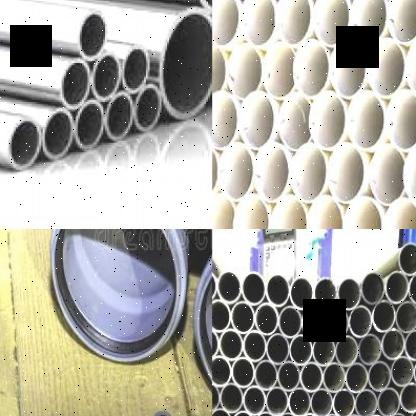pipe: (49, 229, 186, 363), (158, 6, 212, 123), (366, 38, 406, 98), (327, 143, 365, 204), (329, 38, 366, 100), (369, 144, 406, 206), (347, 90, 385, 150), (308, 91, 346, 150), (290, 143, 327, 203), (253, 143, 289, 203), (293, 40, 329, 99), (240, 91, 276, 150), (218, 142, 254, 200), (6, 116, 43, 170), (278, 92, 312, 150), (228, 43, 262, 100), (263, 43, 296, 100), (385, 90, 416, 150), (76, 6, 109, 62), (57, 58, 92, 110), (313, 0, 350, 48), (75, 99, 108, 152), (104, 92, 138, 143), (42, 108, 75, 160), (91, 51, 123, 104), (350, 0, 386, 46), (132, 84, 164, 135), (275, 0, 311, 44), (240, 0, 275, 45), (120, 44, 151, 94), (212, 91, 237, 150), (233, 194, 270, 229), (270, 195, 308, 229), (344, 195, 382, 229), (212, 0, 240, 46), (387, 0, 416, 44), (308, 195, 343, 229), (383, 198, 416, 229), (402, 143, 416, 206), (241, 271, 266, 305), (266, 272, 290, 307), (218, 269, 242, 304), (230, 300, 255, 333), (361, 271, 385, 305), (278, 304, 302, 338), (358, 331, 382, 365), (348, 304, 372, 338), (314, 276, 338, 310), (290, 275, 314, 309), (384, 270, 408, 304), (324, 305, 348, 339), (212, 42, 226, 100), (212, 194, 235, 229), (288, 333, 312, 366), (338, 276, 362, 309), (372, 299, 396, 332), (390, 355, 414, 388), (242, 329, 266, 362), (255, 302, 279, 335), (334, 334, 358, 367), (219, 328, 243, 360), (230, 356, 254, 388), (266, 332, 290, 364), (302, 306, 326, 338), (312, 334, 335, 367), (394, 299, 416, 333), (254, 359, 278, 390), (376, 385, 400, 416), (219, 382, 243, 413), (242, 384, 266, 415), (345, 361, 368, 393), (323, 361, 346, 393), (382, 328, 404, 361), (265, 385, 288, 416), (277, 360, 300, 391), (300, 361, 323, 392), (288, 386, 311, 416), (310, 386, 333, 416), (368, 360, 390, 391), (405, 35, 416, 96), (354, 387, 377, 416), (332, 387, 355, 416), (397, 242, 416, 275), (212, 298, 230, 332), (212, 355, 231, 387), (399, 382, 416, 413), (404, 328, 416, 360), (407, 271, 416, 304), (212, 380, 220, 412), (212, 327, 219, 359), (212, 267, 218, 302), (212, 406, 231, 416), (231, 409, 254, 416), (254, 409, 277, 416), (386, 410, 409, 416), (276, 410, 298, 416), (413, 356, 416, 388), (408, 407, 416, 416)
